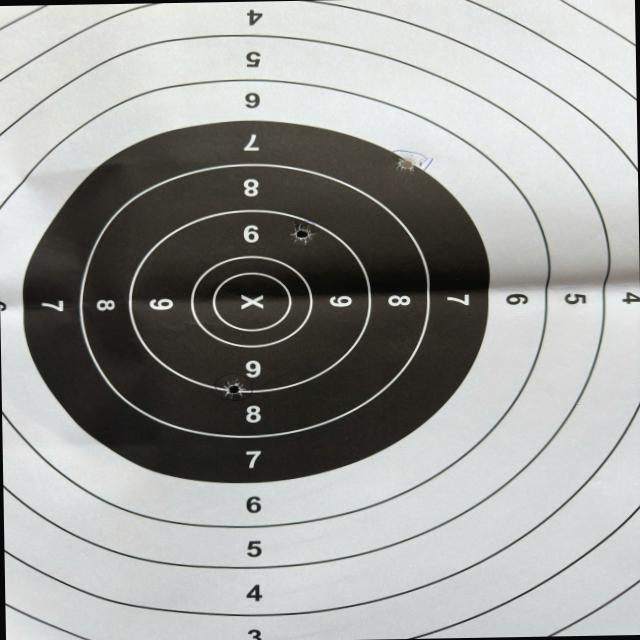bullet: (397, 157, 418, 172), (227, 383, 238, 393), (296, 229, 308, 238)
target: (0, 0, 640, 640)
